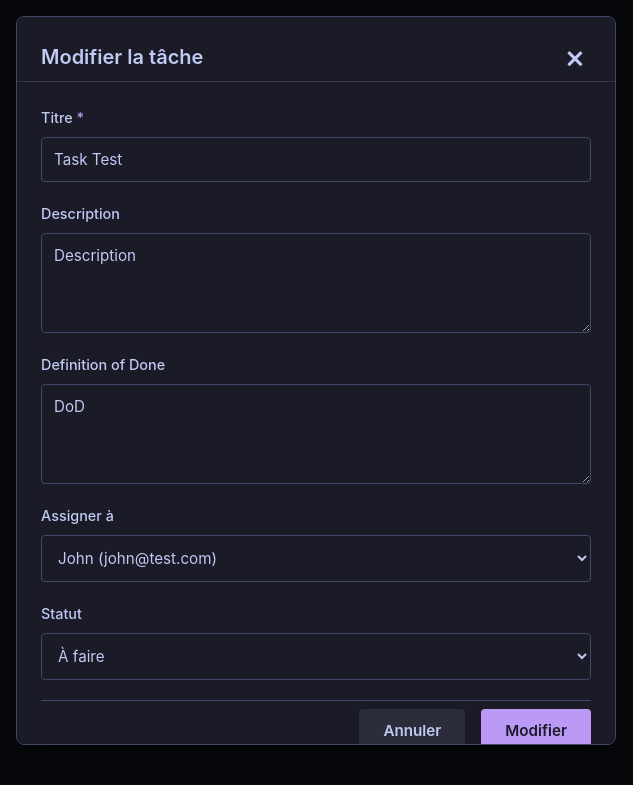
Test case: EditTaskForm - Tests simples › devrait afficher un message d'erreur si la mise à jour échoue
The image size is (633, 785).
Replace the text in the field with id "title" with "Titre erreur" at [316, 159], box [41,136,591,182]
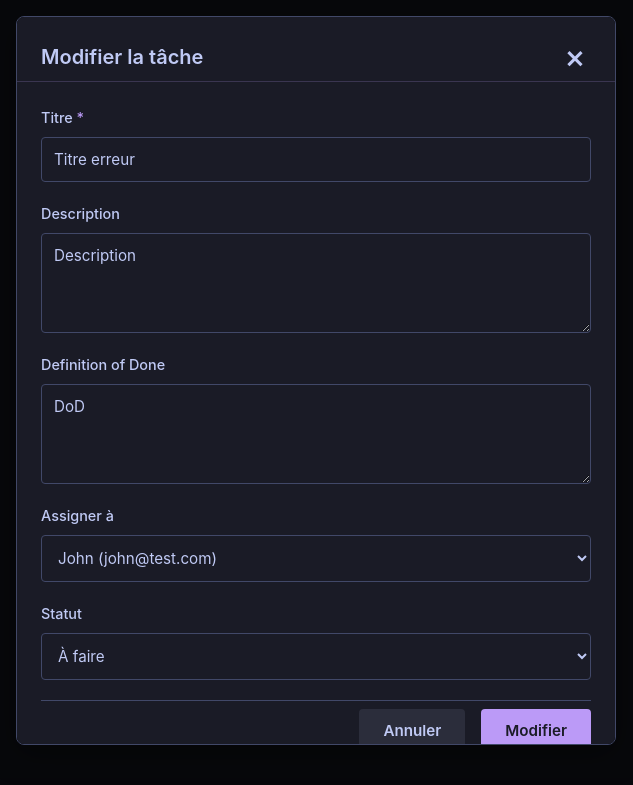
Submit the form
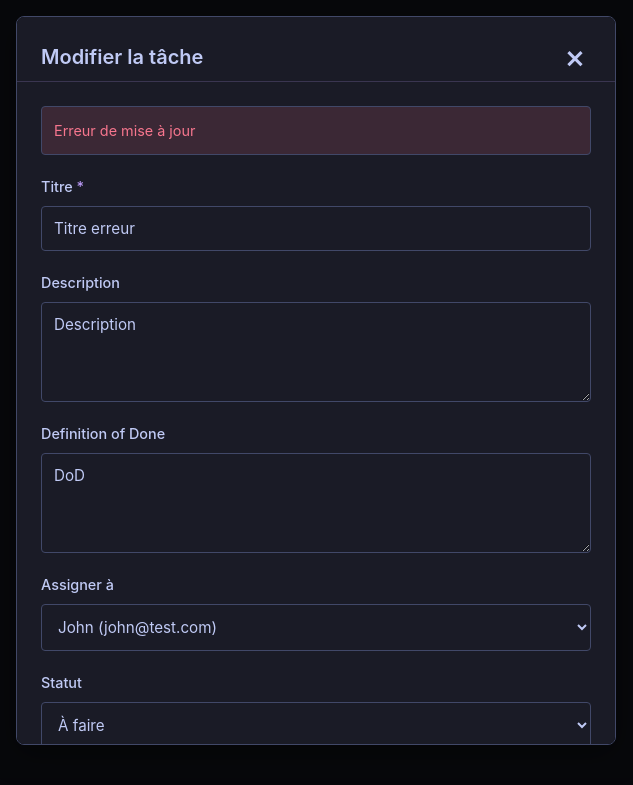
Result: the text "Erreur de mise à jour" is shown at [41,106,591,154]
Result: the text with class "error" shows "Erreur" at [54,122,195,138]
